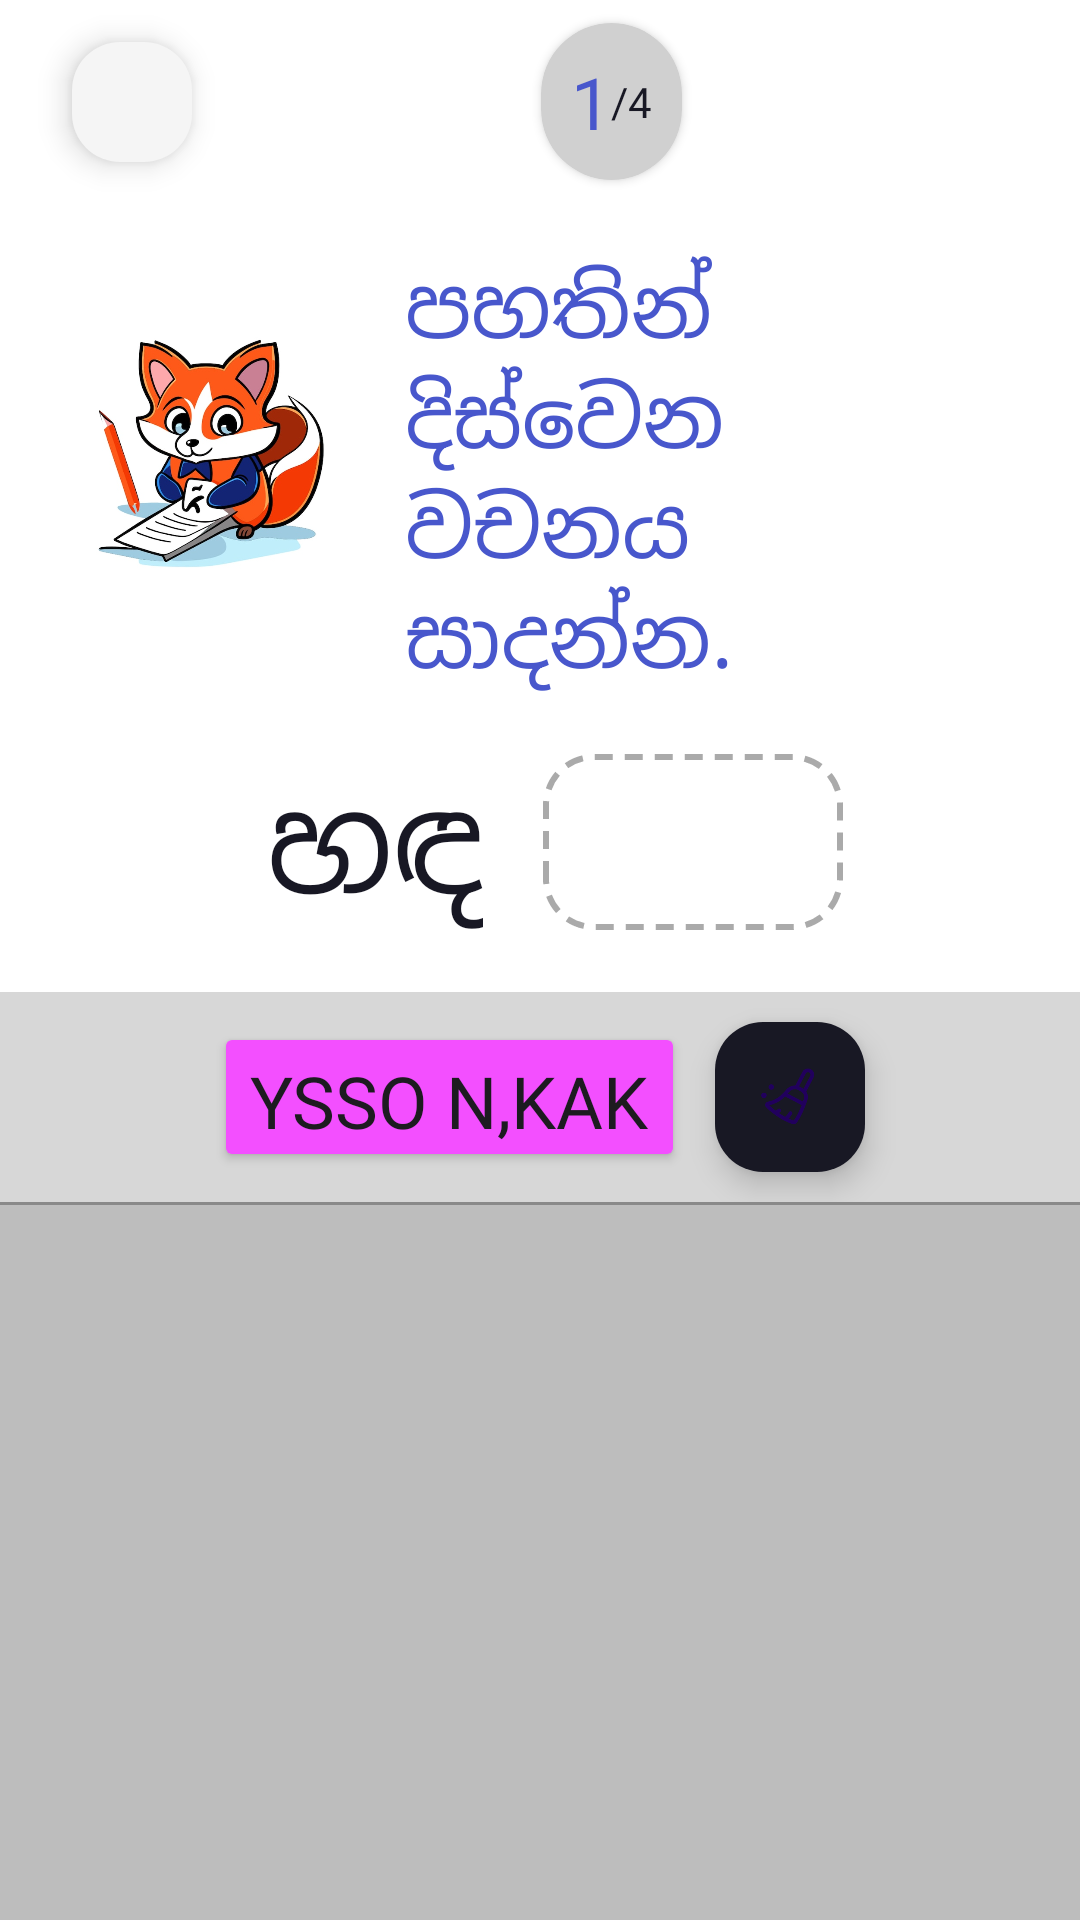

Point at icon controls on the screen. Image size 1080×1920, points as (x=x, y=y).
clear: (x=790, y=1097)
quiz animal: (x=211, y=453)
